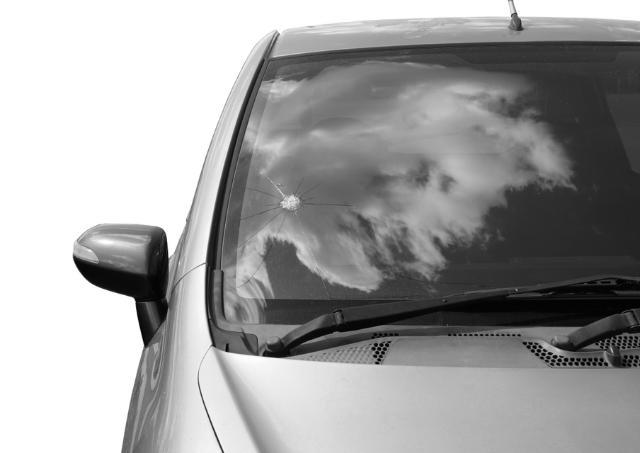Windshield: (230, 41, 640, 287)
